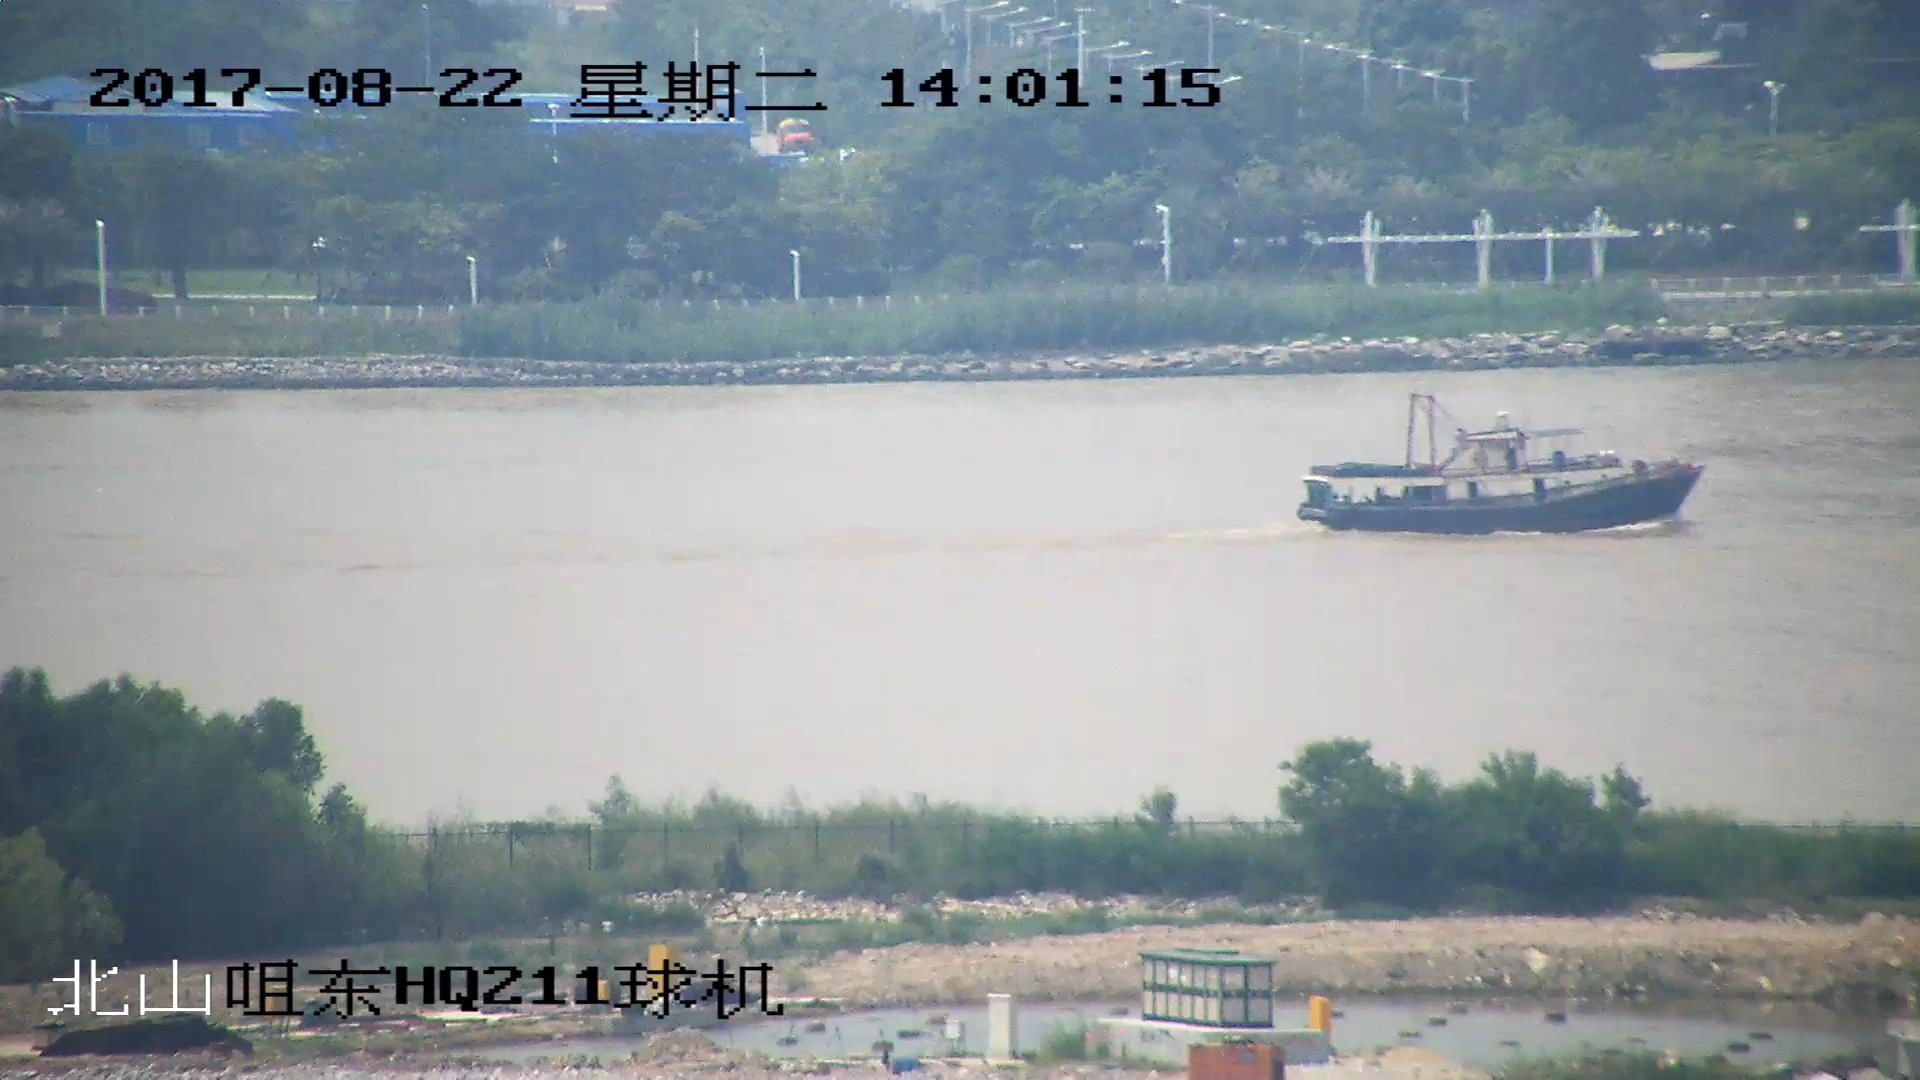fishing boat: (1306, 396, 1699, 538)
